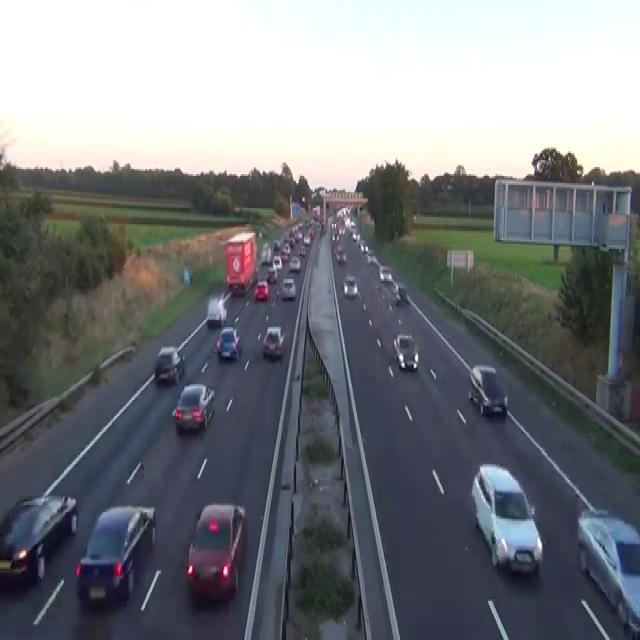Car: (75, 503, 156, 608), (471, 462, 543, 576), (576, 506, 639, 636), (0, 492, 77, 585), (185, 501, 246, 603), (172, 382, 215, 432), (468, 364, 508, 416), (154, 345, 185, 384), (393, 332, 419, 372), (216, 325, 240, 359), (262, 326, 285, 358), (280, 450, 296, 490), (206, 297, 227, 327), (343, 274, 358, 297), (281, 277, 296, 299), (254, 279, 269, 301), (260, 242, 272, 265), (379, 265, 392, 283), (396, 282, 407, 300), (335, 245, 346, 263), (289, 256, 300, 272), (232, 283, 246, 295), (267, 266, 277, 282), (272, 254, 282, 270), (280, 246, 290, 260), (366, 247, 374, 263), (441, 182, 455, 190), (390, 279, 398, 293), (273, 238, 280, 251), (349, 220, 356, 233), (298, 245, 306, 256), (352, 231, 360, 242), (359, 240, 366, 251), (303, 235, 310, 245), (319, 222, 324, 235), (233, 204, 240, 213), (446, 183, 454, 190), (331, 220, 336, 230), (258, 228, 262, 238)
Truck: (222, 230, 258, 294)
